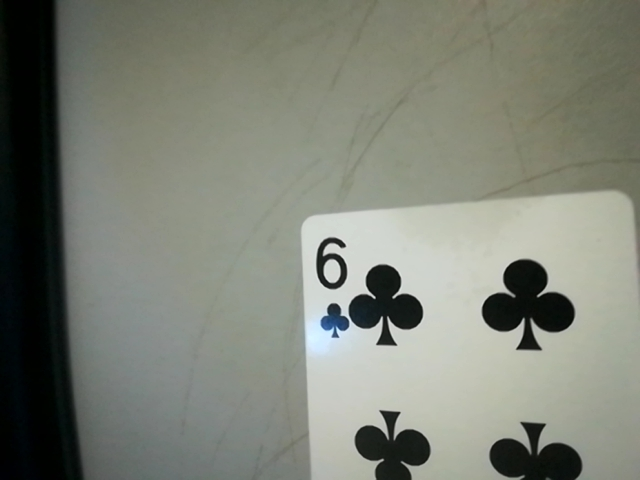mh 6: (305, 227, 355, 342)
